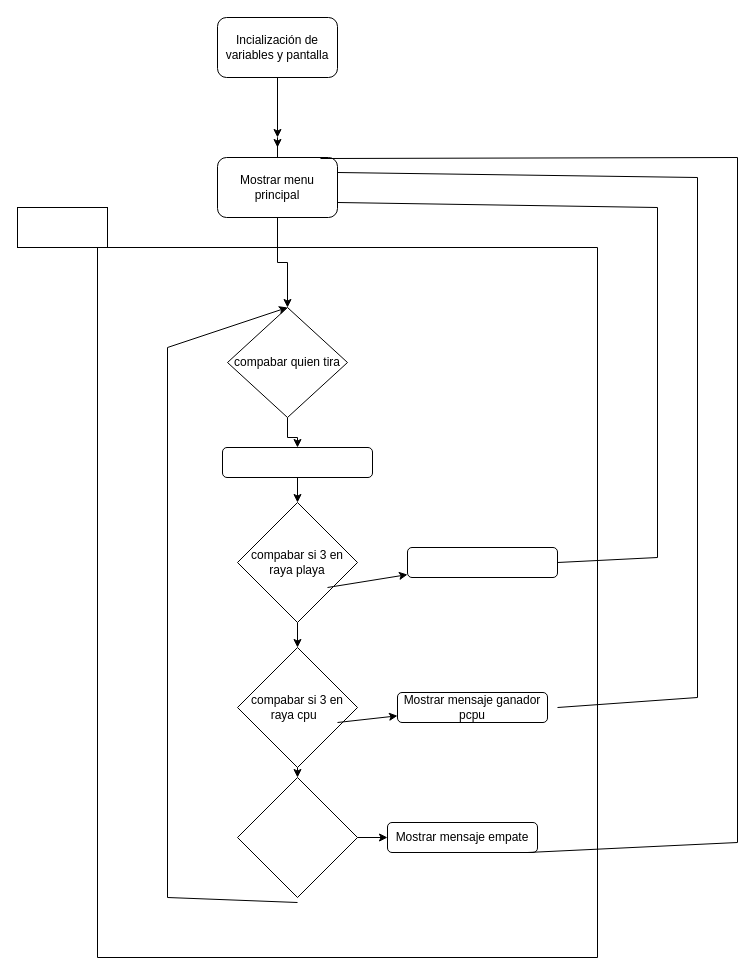
Some shapes in this 756 by 975 pixel diagram are drawn without their labels. The box of each missing label's shape, as (x1, y1, x2, y2) in pixels:
compabar empate: (236, 776, 358, 898)
Dibujar pantalla: (222, 446, 372, 478)
main loop: (16, 206, 108, 248)
Mostrar mensaje ganador player: (406, 546, 558, 578)
